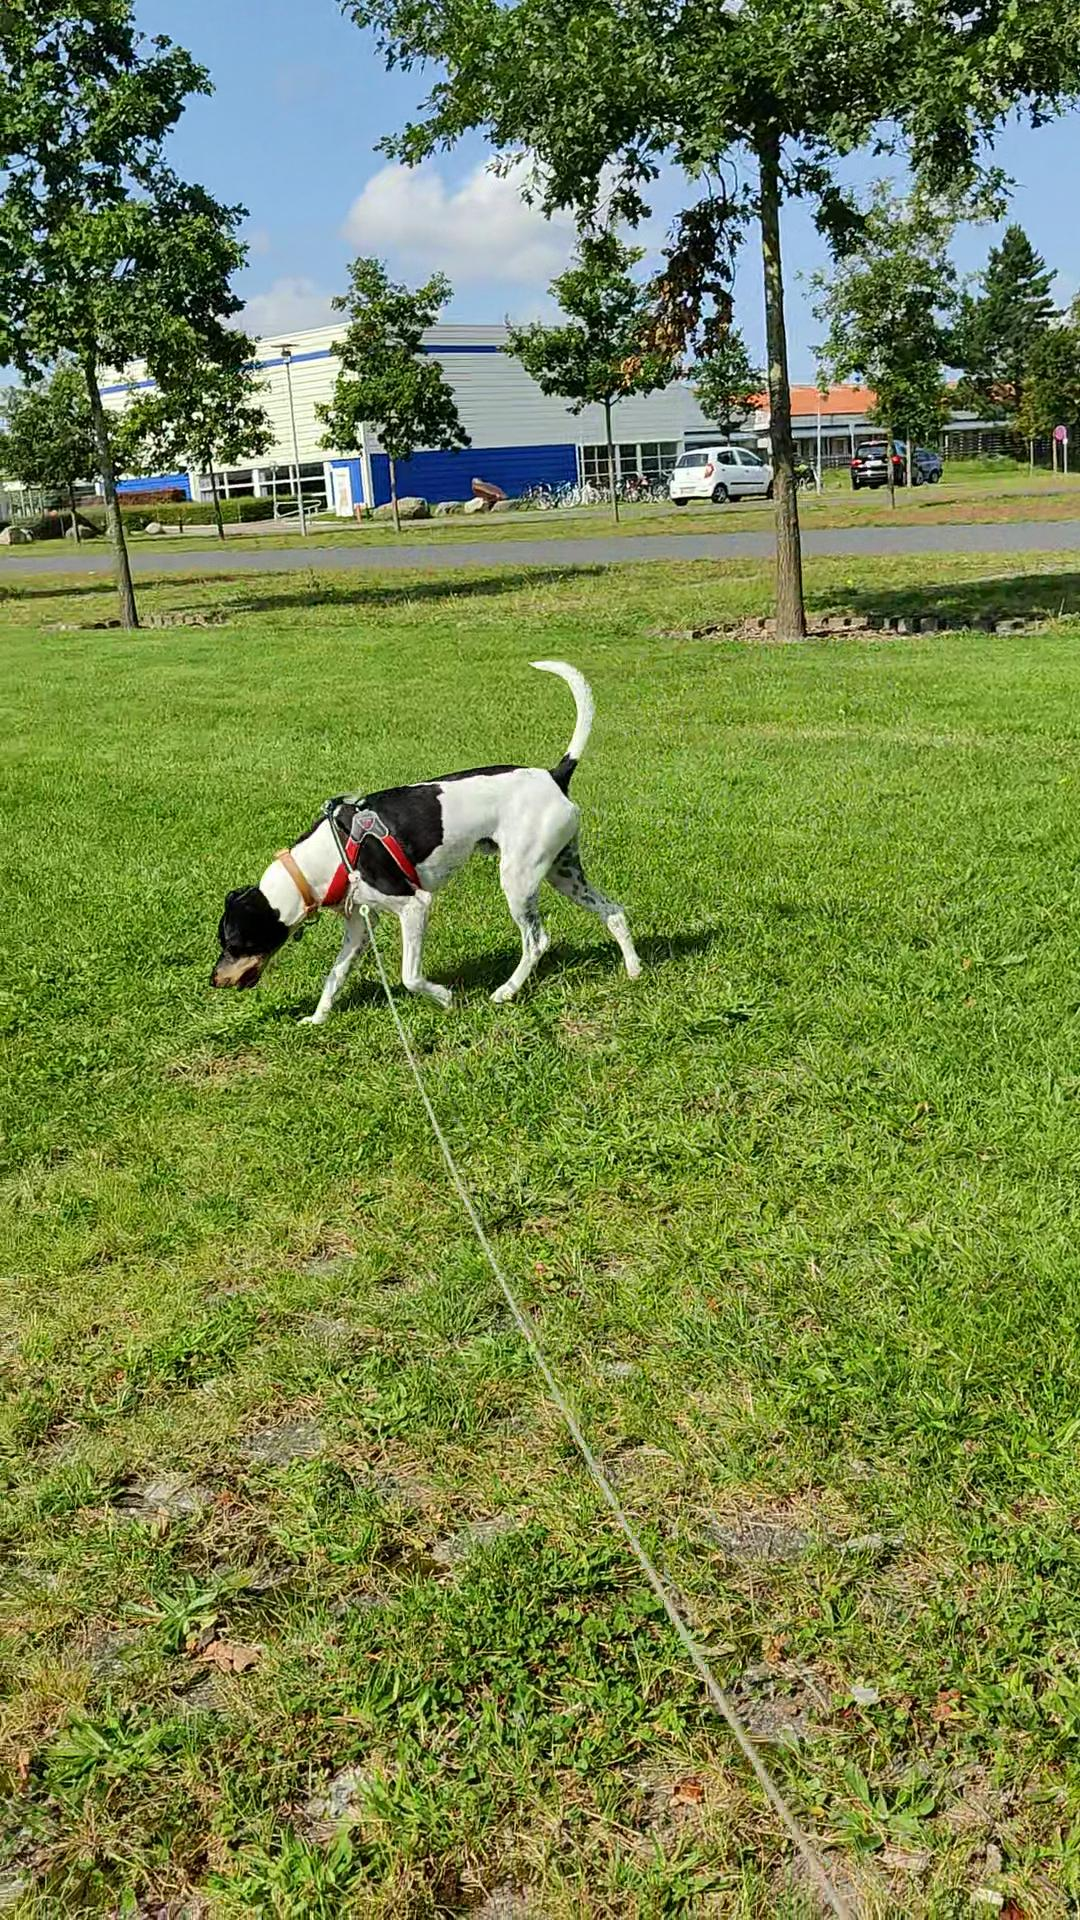Dog: (193, 654, 655, 1030)
